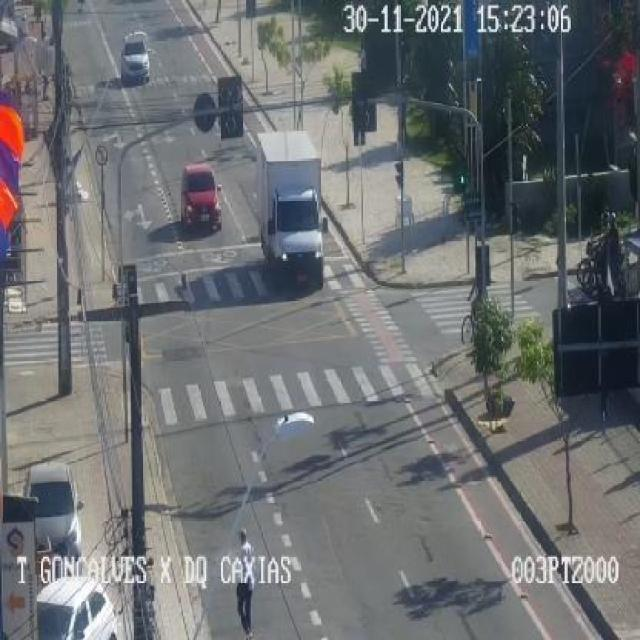Car: (21, 462, 87, 559), (34, 575, 119, 640), (177, 163, 227, 233), (119, 33, 153, 86)
Cycle: (578, 248, 640, 296), (576, 240, 640, 286)
Truck: (254, 126, 332, 288)
